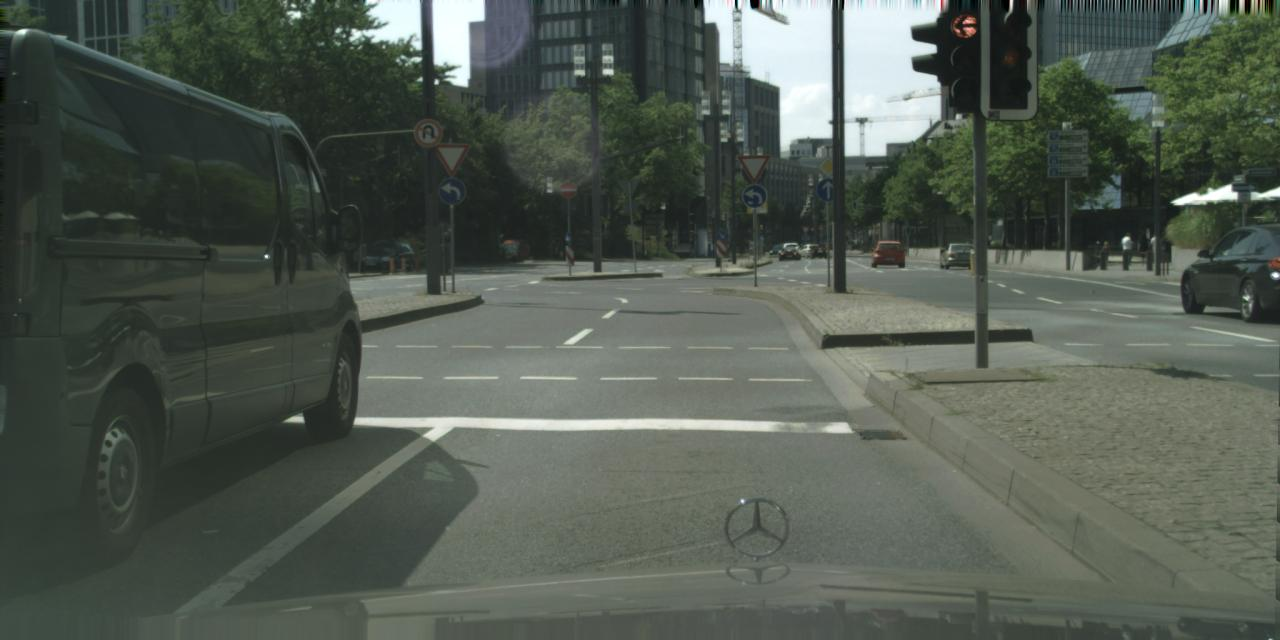ped: (1150, 230, 1162, 264), (1121, 232, 1133, 264), (1138, 234, 1150, 264), (1100, 240, 1109, 264)
